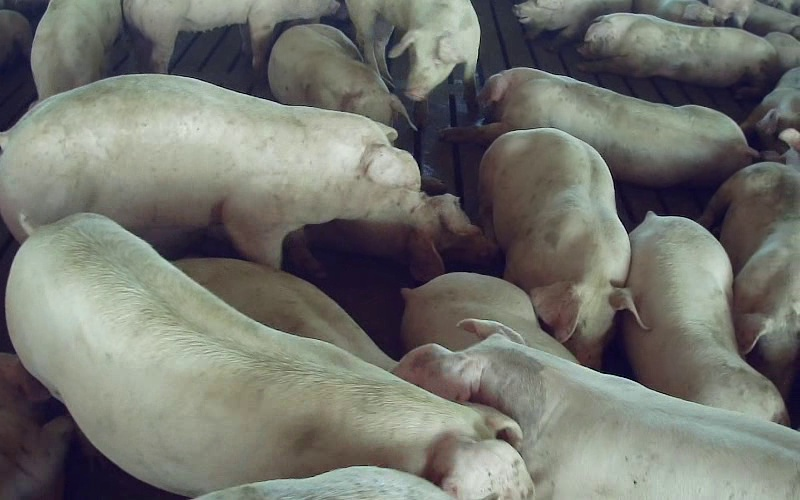pig: (6, 214, 532, 499), (395, 320, 799, 499), (441, 68, 756, 186), (479, 128, 632, 367), (622, 213, 787, 423), (701, 162, 799, 397), (578, 13, 780, 96), (123, 0, 338, 73), (346, 0, 479, 116), (268, 24, 414, 128)
